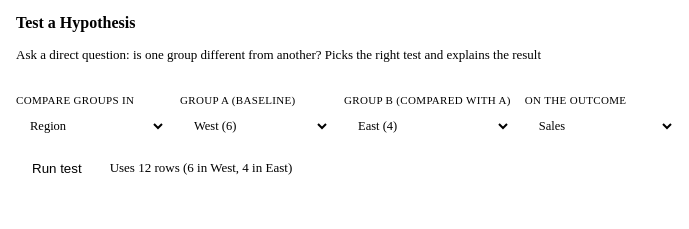
Test: HypothesisTestPanel › a network/server failure is announced as an alert
Step 1. Click the button "Run test" → (57, 168), box [16,152,98,184]
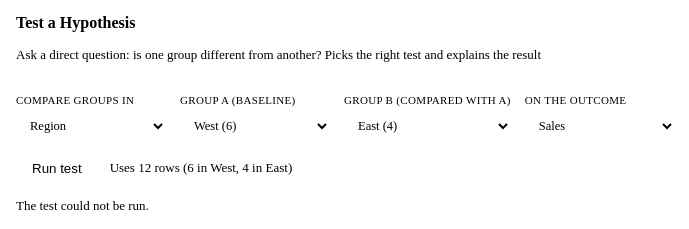
Result: the message reads "The test could not be run." at [16,198,149,212]
